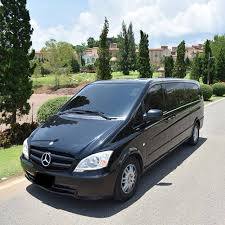van: (20, 78, 205, 205)
